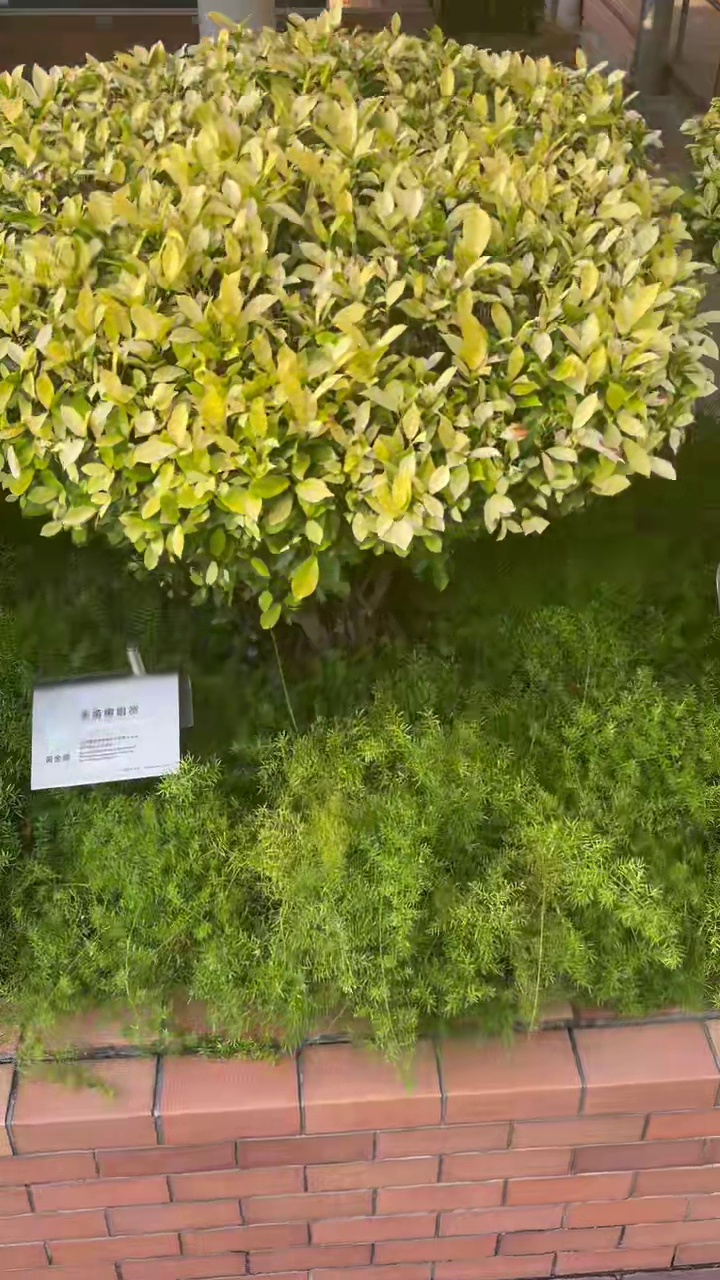Golden-leaves Fig: (0, 0, 713, 630)
